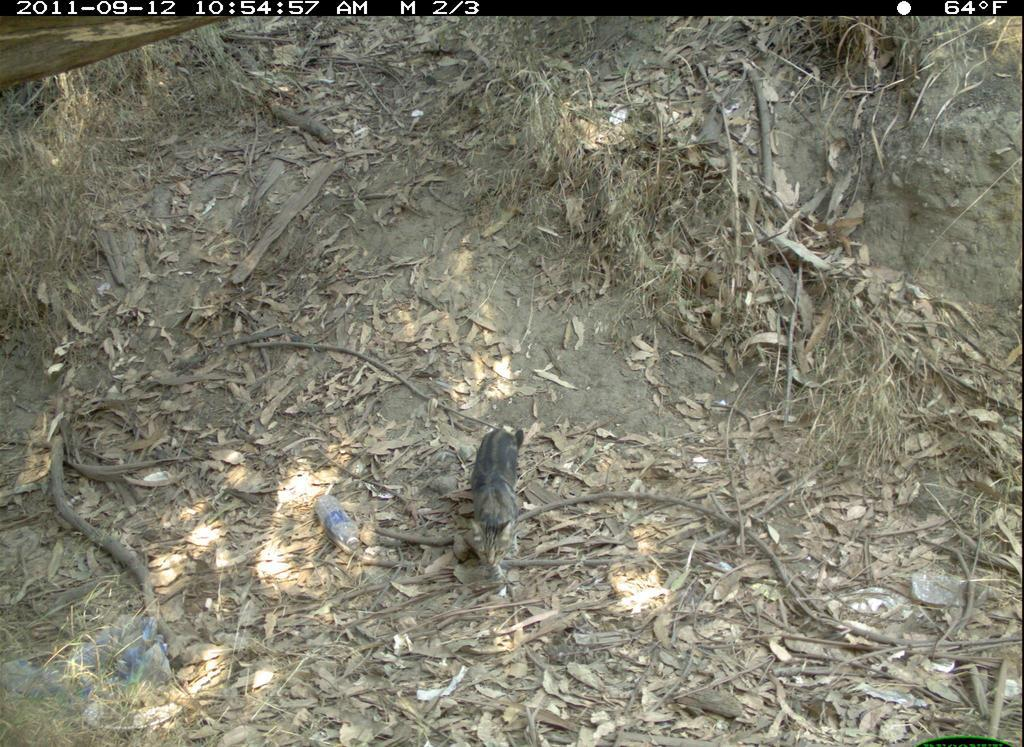cat: (460, 415, 533, 579)
